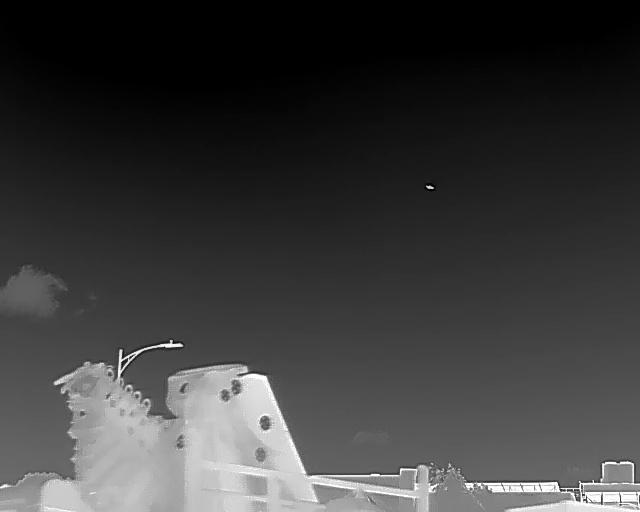fpv-drone: (424, 183, 435, 190)
